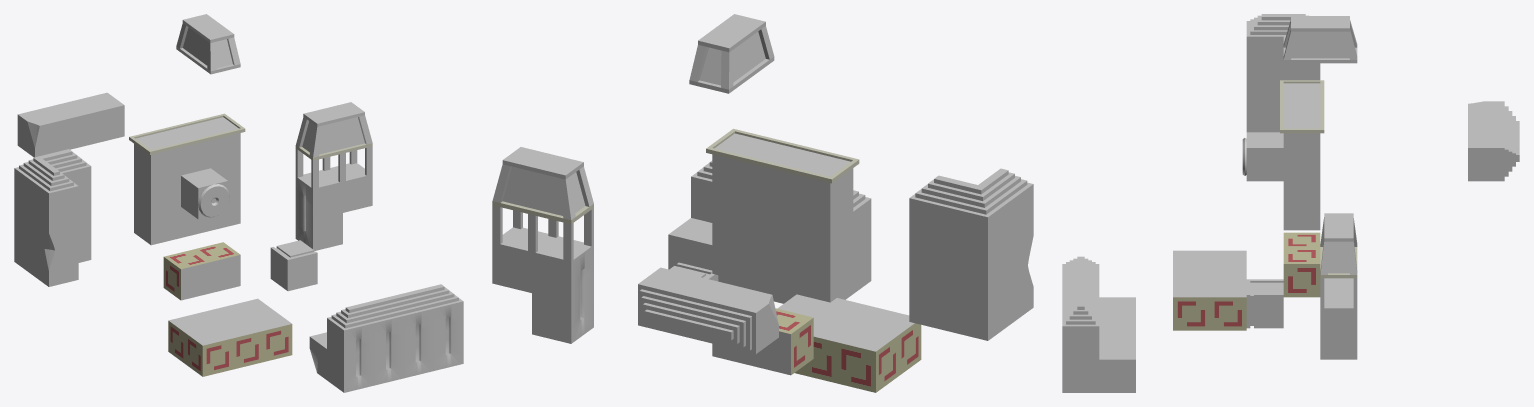
The model's file is env_2Dpatterns.fbx.
3 renders of one model, left to right at view 1: azimuth 30°, elevation 25°; view 2: azimuth 150°, elevation 25°; view 3: azimuth 270°, elevation 25°, orthographic. The views are drawn at different scales.
Parts seen in each view (by area): view 1: env_patterns, patterns; view 2: env_patterns, patterns; view 3: env_patterns, patterns.
Part boxes in pixels (box(x1,y1,x2,y2)): env_patterns: box(14, 14, 463, 392); patterns: box(163, 242, 292, 376); env_patterns: box(492, 14, 1033, 375); patterns: box(775, 308, 921, 392); env_patterns: box(1062, 14, 1519, 392); patterns: box(1173, 232, 1320, 330).
Size of the model in its own units: 120 by 90 by 124.
